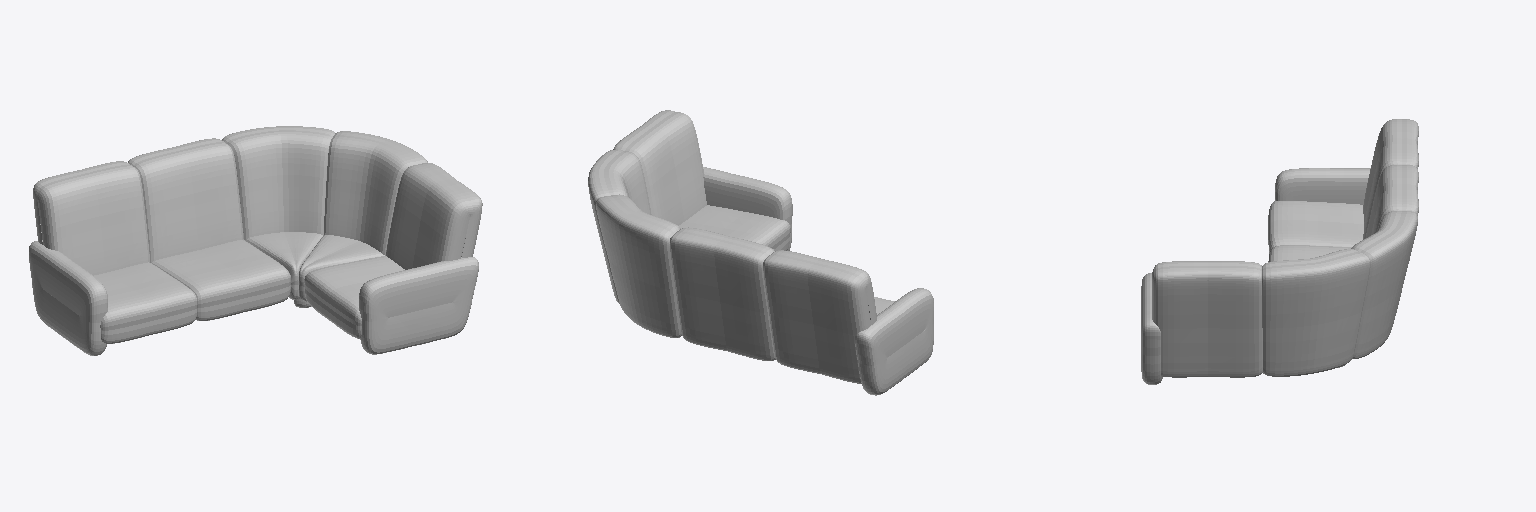
The model's file is cornerSofa.obj.
The picture shows the model from 3 angles: view 1: azimuth 30°, elevation 25°; view 2: azimuth 150°, elevation 25°; view 3: azimuth 270°, elevation 25°; orthographic projection.
Parts seen in each view (by area): view 1: Assise_&_Dossier_1_ir_Assise_&_Dossier_1_ir_iris, Assise_&_Dossier_iris_Assise_&_Dossier_iris_iris, Assise_&_Dossier_2_ir_Assise_&_Dossier_2_ir_iris, Assise_&_Dossier_4_ir_Assise_&_Dossier_4_ir_iris, Assise_&_Dossier_3_ir_Assise_&_Dossier_3_ir_iris, Accoudoir_1_iris_Acco_Accoudoir_1_iris_Acco_iris, Accoudoir_iris_Accoud_Accoudoir_iris_Accoud_iris; view 2: Assise_&_Dossier_iris_Assise_&_Dossier_iris_iris, Assise_&_Dossier_1_ir_Assise_&_Dossier_1_ir_iris, Assise_&_Dossier_4_ir_Assise_&_Dossier_4_ir_iris, Assise_&_Dossier_2_ir_Assise_&_Dossier_2_ir_iris, Accoudoir_iris_Accoud_Accoudoir_iris_Accoud_iris, Accoudoir_1_iris_Acco_Accoudoir_1_iris_Acco_iris, Assise_&_Dossier_3_ir_Assise_&_Dossier_3_ir_iris; view 3: Assise_&_Dossier_4_ir_Assise_&_Dossier_4_ir_iris, Assise_&_Dossier_3_ir_Assise_&_Dossier_3_ir_iris, Assise_&_Dossier_iris_Assise_&_Dossier_iris_iris, Assise_&_Dossier_2_ir_Assise_&_Dossier_2_ir_iris, Accoudoir_iris_Accoud_Accoudoir_iris_Accoud_iris, Assise_&_Dossier_1_ir_Assise_&_Dossier_1_ir_iris, Accoudoir_1_iris_Acco_Accoudoir_1_iris_Acco_iris.
Boxes of the visible parts, <box> form: Assise_&_Dossier_1_ir_Assise_&_Dossier_1_ir_iris: <box>128,138,290,320</box>; Assise_&_Dossier_iris_Assise_&_Dossier_iris_iris: <box>33,161,196,343</box>; Assise_&_Dossier_2_ir_Assise_&_Dossier_2_ir_iris: <box>222,126,334,299</box>; Assise_&_Dossier_4_ir_Assise_&_Dossier_4_ir_iris: <box>304,163,482,338</box>; Assise_&_Dossier_3_ir_Assise_&_Dossier_3_ir_iris: <box>299,131,427,301</box>; Accoudoir_1_iris_Acco_Accoudoir_1_iris_Acco_iris: <box>359,257,478,354</box>; Accoudoir_iris_Accoud_Accoudoir_iris_Accoud_iris: <box>29,241,107,355</box>; Assise_&_Dossier_iris_Assise_&_Dossier_iris_iris: <box>763,250,894,383</box>; Assise_&_Dossier_1_ir_Assise_&_Dossier_1_ir_iris: <box>670,227,775,360</box>; Assise_&_Dossier_4_ir_Assise_&_Dossier_4_ir_iris: <box>613,110,790,250</box>; Assise_&_Dossier_2_ir_Assise_&_Dossier_2_ir_iris: <box>596,194,681,337</box>; Accoudoir_iris_Accoud_Accoudoir_iris_Accoud_iris: <box>855,288,933,395</box>; Accoudoir_1_iris_Acco_Accoudoir_1_iris_Acco_iris: <box>703,167,792,250</box>; Assise_&_Dossier_3_ir_Assise_&_Dossier_3_ir_iris: <box>588,150,651,303</box>; Assise_&_Dossier_4_ir_Assise_&_Dossier_4_ir_iris: <box>1152,261,1262,377</box>; Assise_&_Dossier_3_ir_Assise_&_Dossier_3_ir_iris: <box>1262,249,1370,376</box>; Assise_&_Dossier_iris_Assise_&_Dossier_iris_iris: <box>1268,119,1418,253</box>; Assise_&_Dossier_2_ir_Assise_&_Dossier_2_ir_iris: <box>1351,211,1417,358</box>; Accoudoir_iris_Accoud_Accoudoir_iris_Accoud_iris: <box>1275,168,1370,204</box>; Assise_&_Dossier_1_ir_Assise_&_Dossier_1_ir_iris: <box>1268,165,1418,261</box>; Accoudoir_1_iris_Acco_Accoudoir_1_iris_Acco_iris: <box>1141,273,1162,384</box>.
Size of the model in its own units: 5.37 by 2 by 3.87.